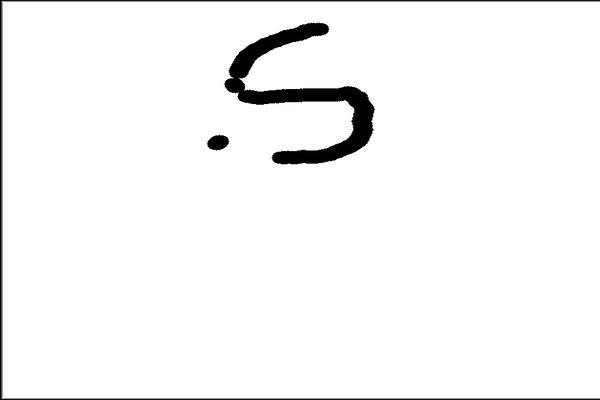S: (220, 17, 380, 167)
